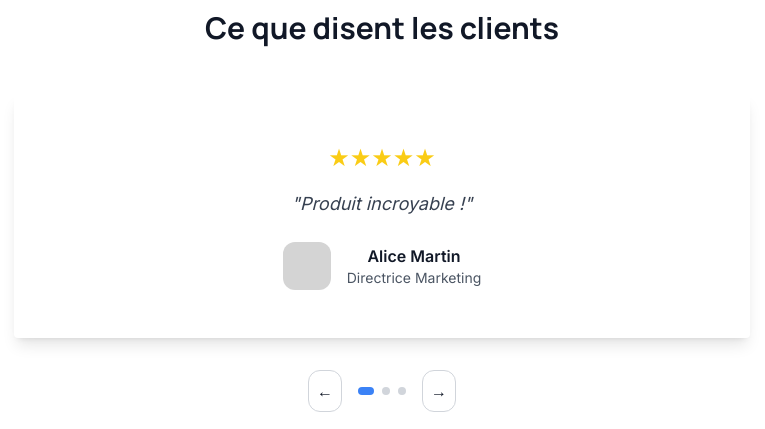
Scenario: F10.3 — Blocs enrichis › TestimonialsCarouselBlock › devrait naviguer entre les témoignages
What coordinates should you click on to do the following:
click the button named "Témoignage suivant"
I would click on:
 (439, 391)
Its box is [422,370,456,412].
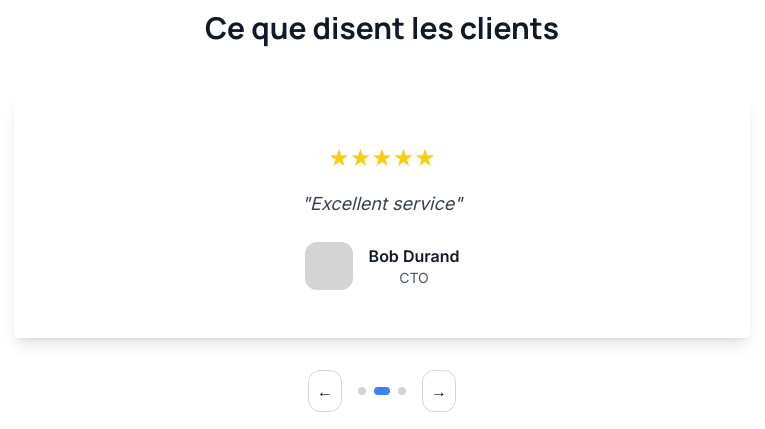
Result: the text "Bob Durand" is shown at [369,244,459,268]
